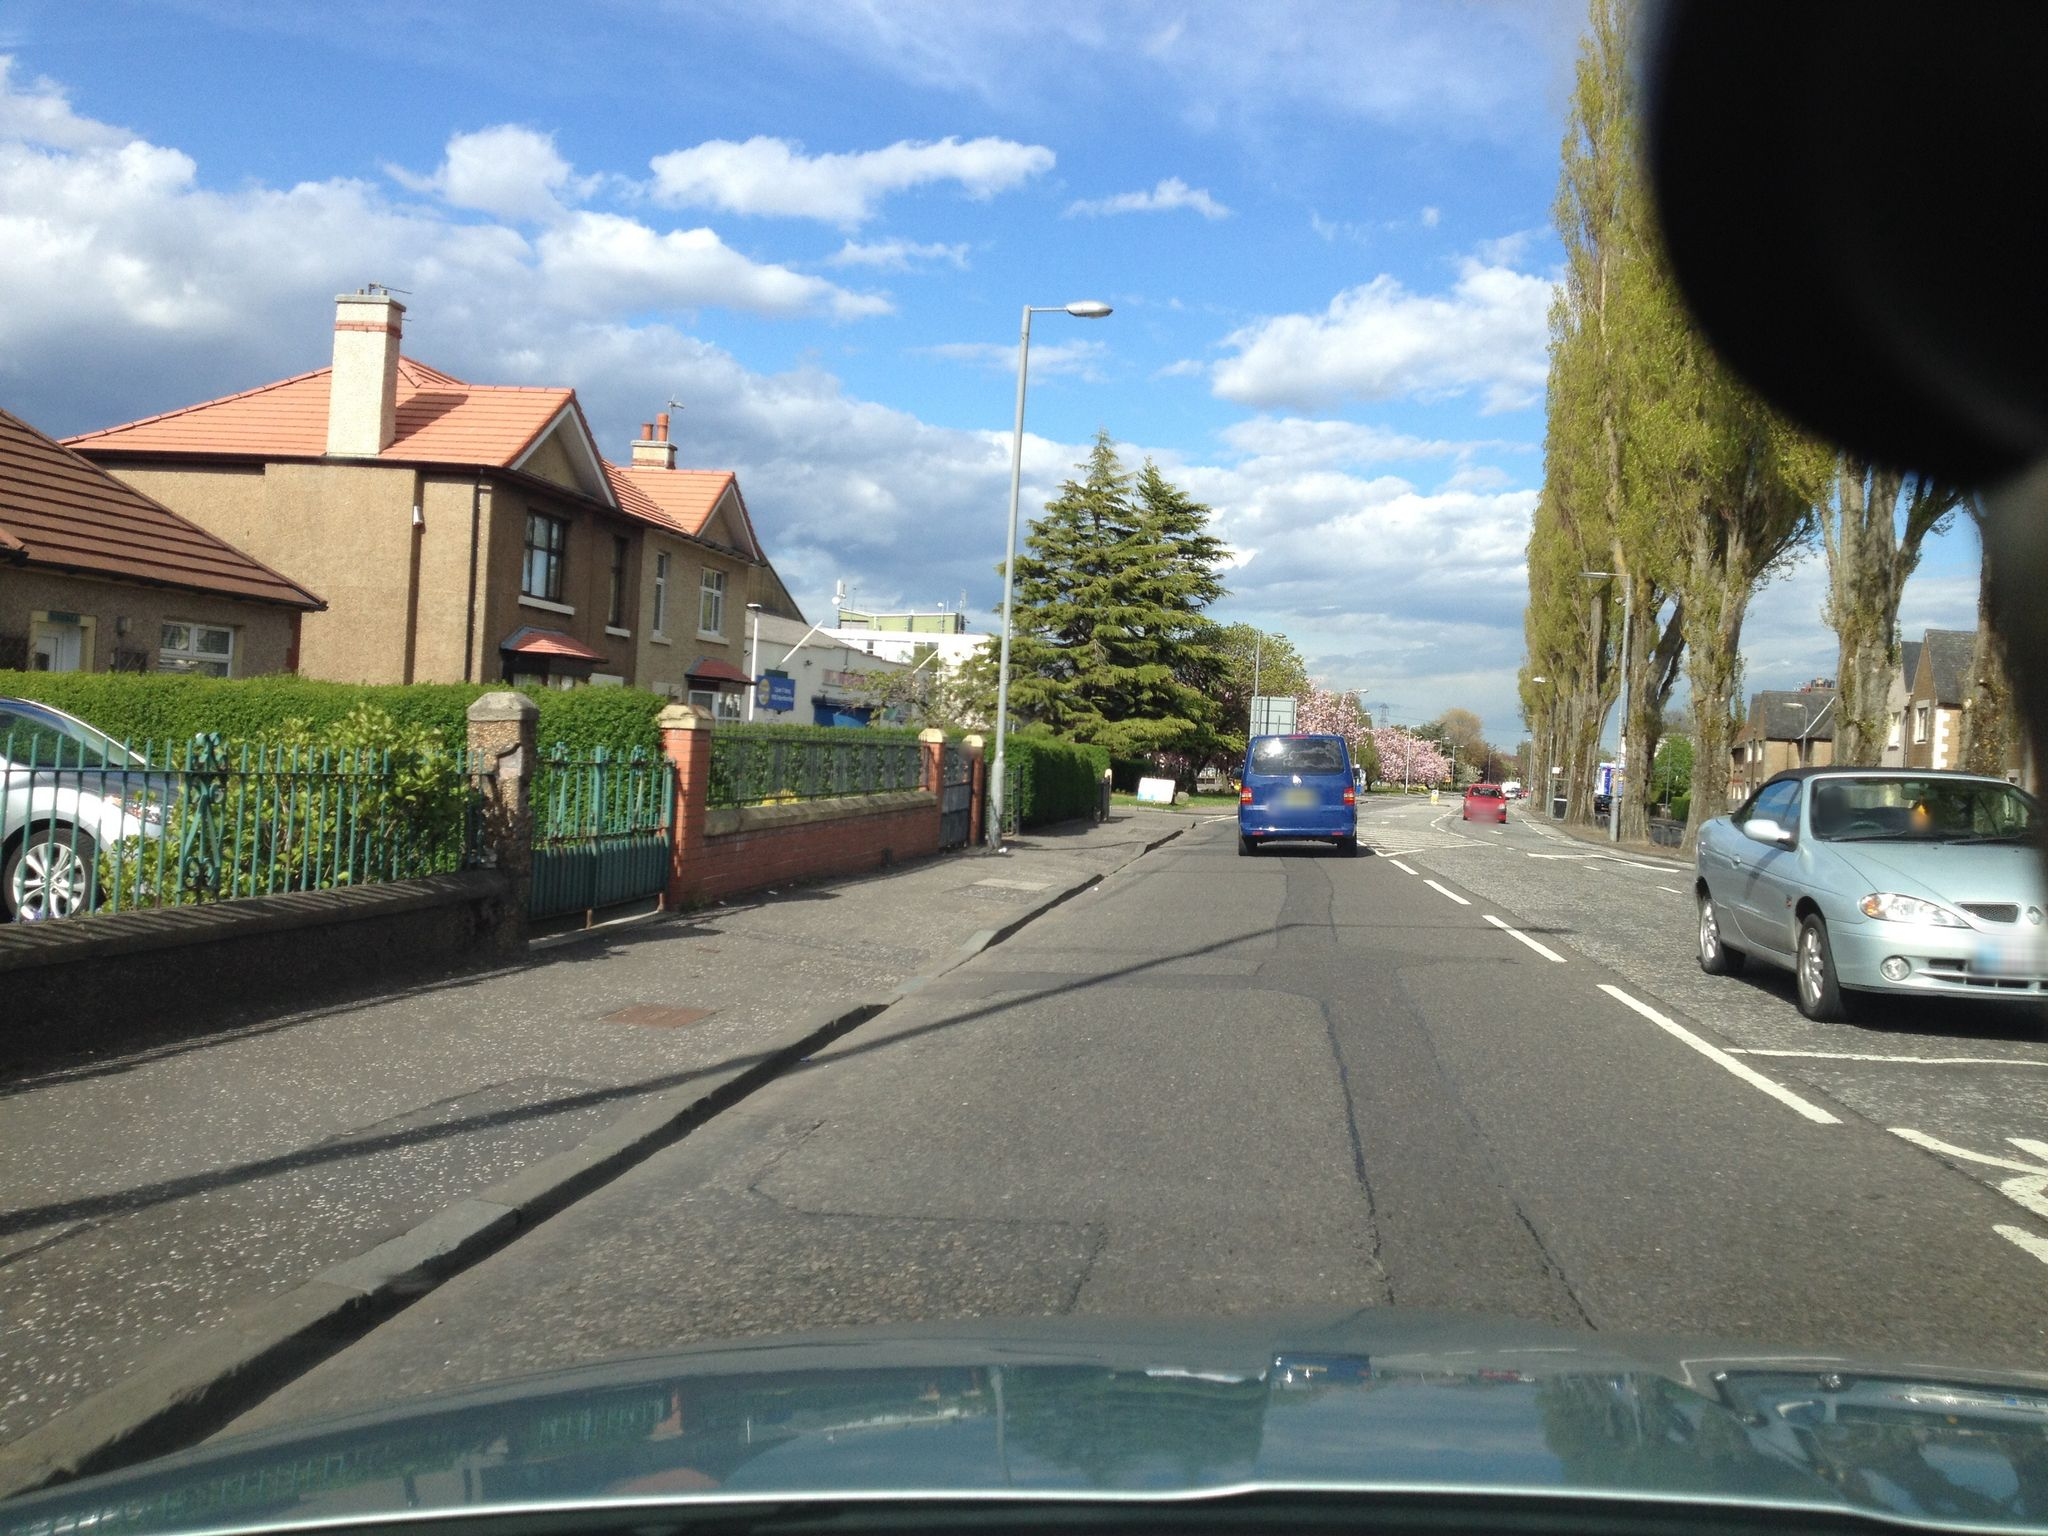car: (1692, 762, 2046, 1025), (0, 695, 181, 923), (1230, 734, 1359, 857), (1459, 784, 1509, 821)
